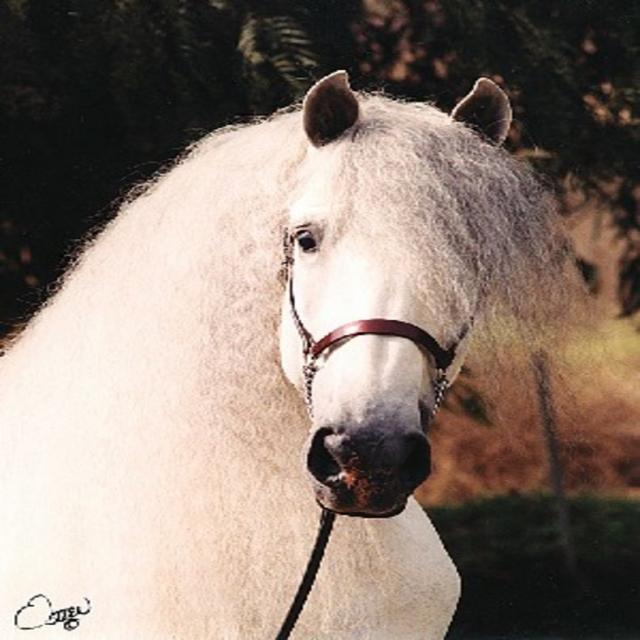Horse: (2, 66, 583, 638)
